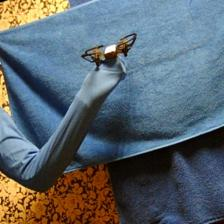drone: (79, 34, 140, 65)
